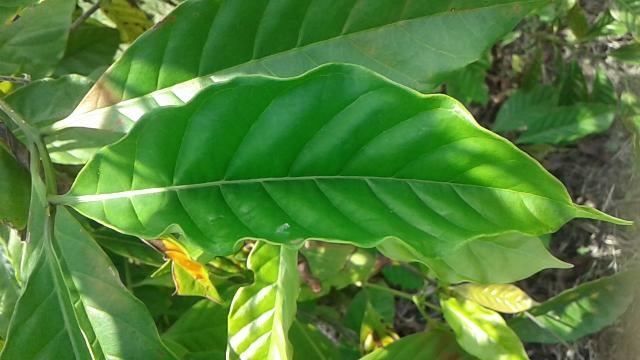healthy: (66, 66, 631, 258)
